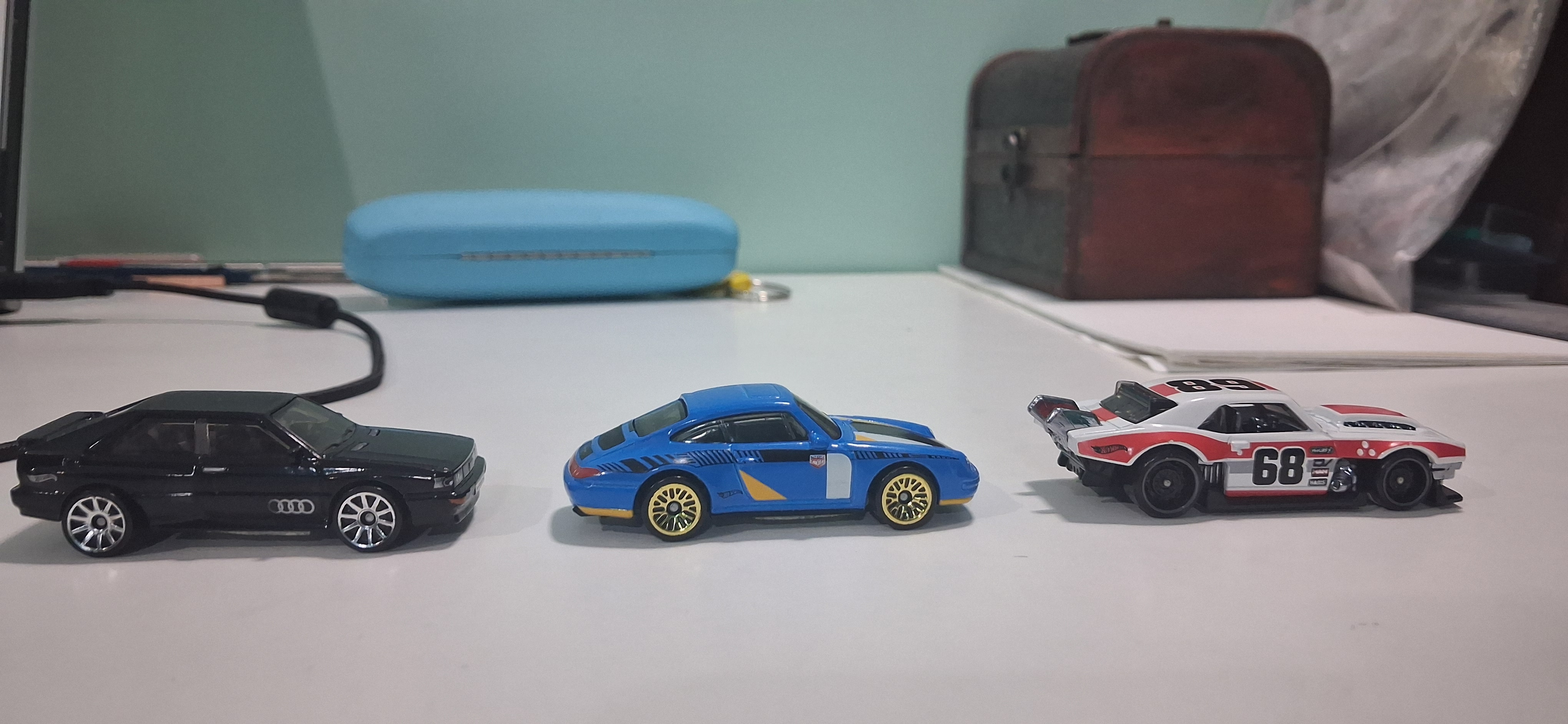Audi_Quattro: (6, 364, 517, 602)
Camaro: (1019, 338, 1498, 559)
Porsche_Carrera: (537, 349, 993, 577)
